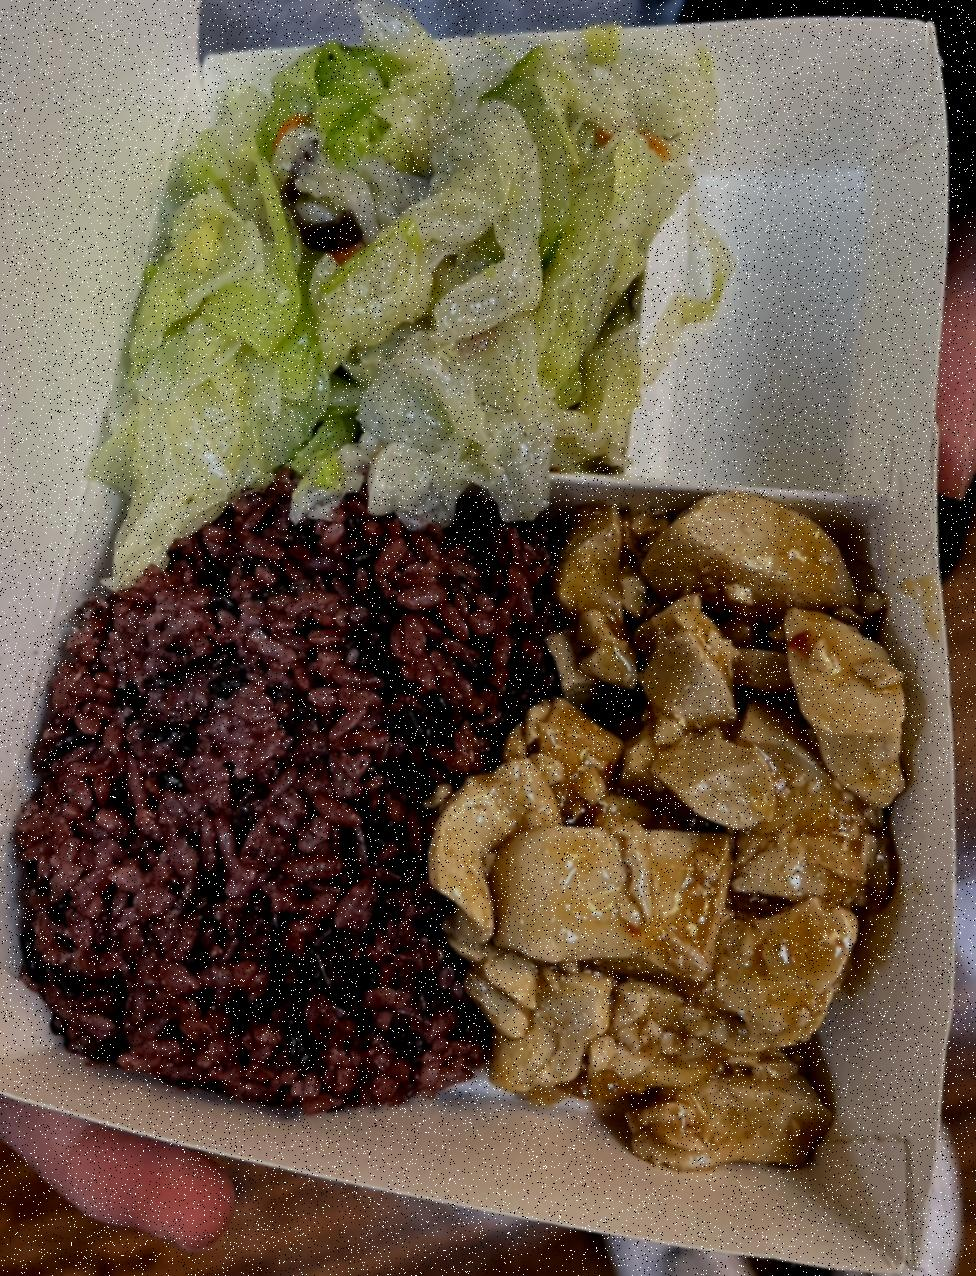box: (2, 10, 976, 1272)
purple rice: (24, 478, 570, 1120)
side dish: (433, 486, 898, 1174), (91, 31, 431, 582), (365, 20, 678, 491)
